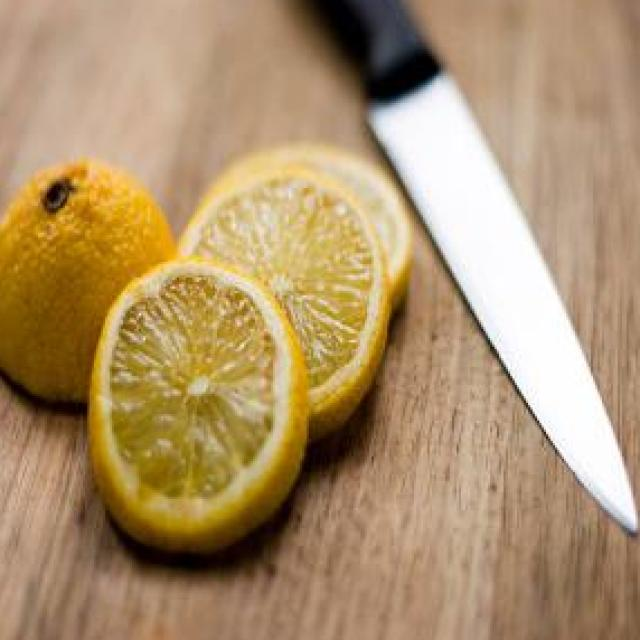knife: (333, 0, 638, 535)
